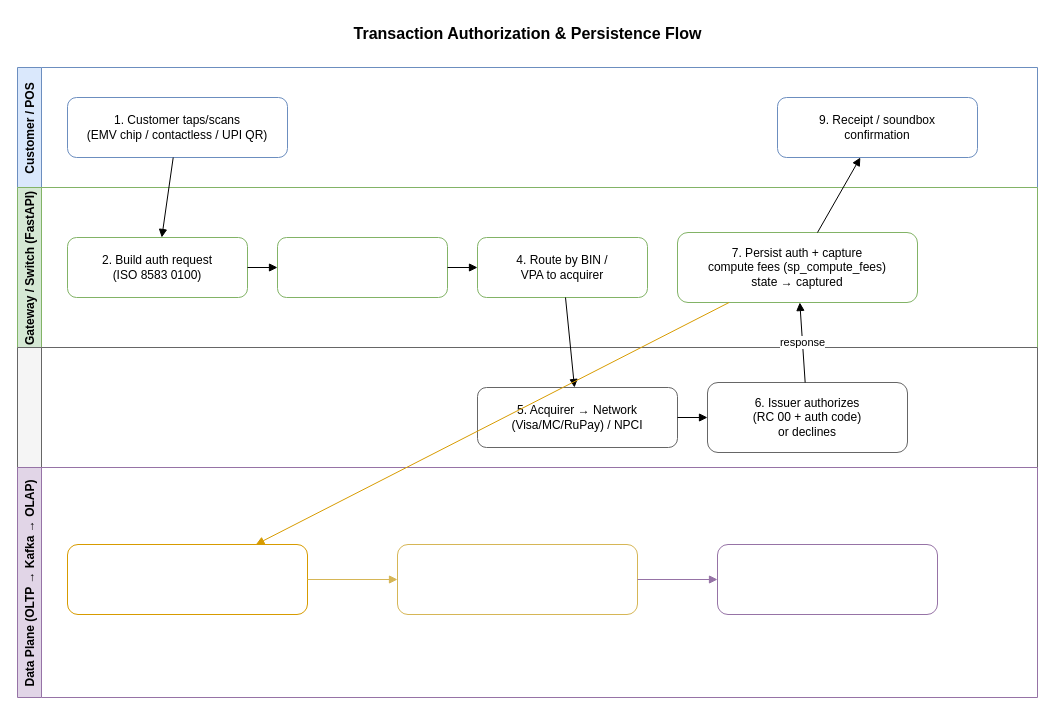
This 1055x715 diagram has some shape labels left out. The shapes that lost their labels are listed below. From the top down, each one's box as (x1, y1, x2, y2) in pixels, then its label:
(276, 236, 448, 298): 3. Rules pre-check (blacklist, velocity, ticket limit)
(16, 346, 1038, 468): External Rails
(66, 544, 308, 614): 8a. transaction_header + details/auth/capture/fees (PostgreSQL)
(396, 544, 638, 614): 8b. publish transaction_events (Kafka, key=merchant_id)
(716, 544, 938, 614): 8c. fact_transactions + MVs auto-aggregate (ClickHouse)
